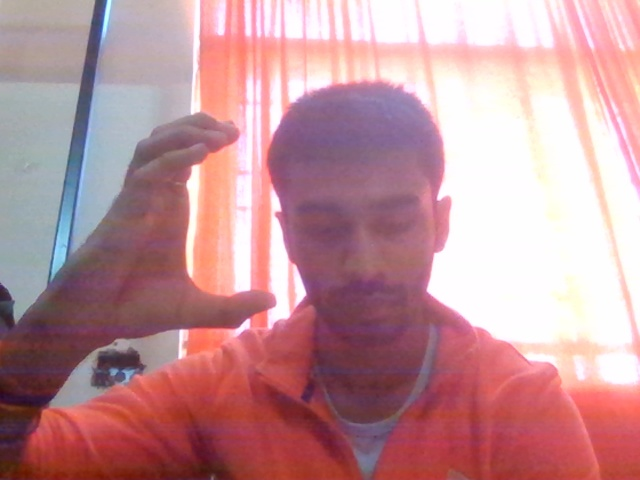C: (18, 106, 275, 397)
